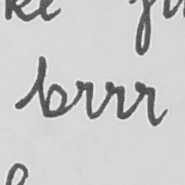b: (36, 52, 69, 118)
r: (131, 78, 160, 129), (100, 79, 129, 123), (73, 78, 97, 122)
